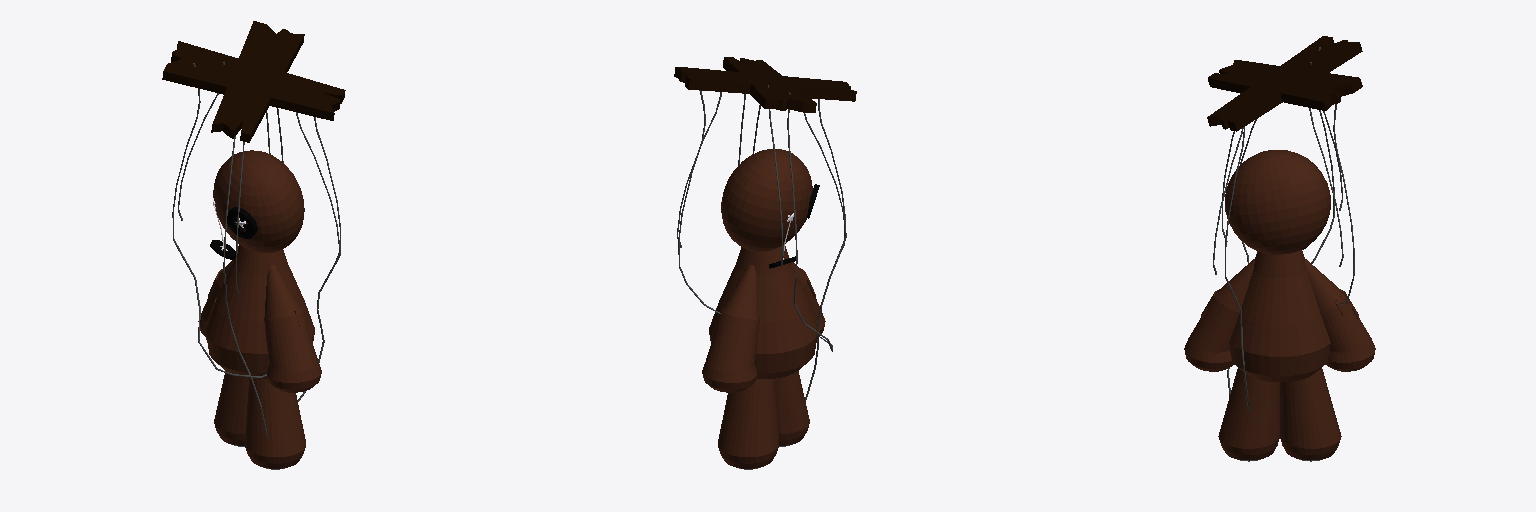
The model's file is OldDolly.obj.
The picture shows the model from 3 angles: view 1: azimuth 30°, elevation 25°; view 2: azimuth 150°, elevation 25°; view 3: azimuth 270°, elevation 25°; orthographic projection.
Visible parts, largest first — view 1: MeshPart2, MeshPart15, MeshPart3, MeshPart1, MeshPart14, MeshPart11, MeshPart13, MeshPart4; view 2: MeshPart3, MeshPart1, MeshPart15, MeshPart2, MeshPart14, MeshPart11, MeshPart7, MeshPart13; view 3: MeshPart15, MeshPart3, MeshPart1, MeshPart2, MeshPart14, MeshPart11.
Boxes of the visible parts, x1,y1,x2,y2 form: MeshPart2: [162, 21, 345, 142]; MeshPart15: [205, 244, 314, 378]; MeshPart3: [213, 150, 304, 252]; MeshPart1: [214, 371, 305, 468]; MeshPart14: [198, 260, 321, 392]; MeshPart11: [172, 62, 340, 437]; MeshPart13: [208, 269, 303, 345]; MeshPart4: [227, 207, 257, 238]; MeshPart3: [721, 149, 812, 251]; MeshPart1: [718, 371, 809, 468]; MeshPart15: [709, 246, 818, 378]; MeshPart2: [674, 57, 856, 112]; MeshPart14: [702, 262, 825, 392]; MeshPart11: [677, 85, 846, 400]; MeshPart7: [757, 321, 787, 363]; MeshPart13: [720, 268, 815, 345]; MeshPart15: [1229, 250, 1330, 381]; MeshPart3: [1225, 150, 1330, 254]; MeshPart1: [1218, 368, 1341, 460]; MeshPart2: [1207, 36, 1362, 131]; MeshPart14: [1184, 259, 1375, 371]; MeshPart11: [1213, 47, 1354, 410].
Bounding box in the file's own units: 4.64 × 12.34 × 5.44.